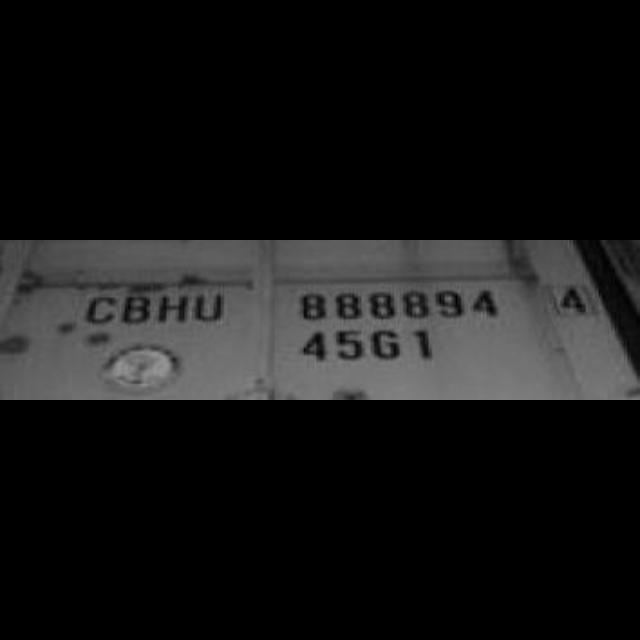1: (406, 325, 439, 365)
4: (300, 327, 334, 369), (555, 282, 589, 320), (470, 285, 502, 325)
5: (334, 327, 366, 363)
8: (334, 285, 366, 327), (400, 286, 434, 322), (296, 286, 328, 324), (365, 287, 397, 325)
9: (434, 286, 468, 324)
b: (122, 290, 152, 330)
c: (81, 291, 121, 333)
g: (367, 326, 403, 364)
h: (157, 289, 191, 327)
u: (193, 288, 227, 330)
